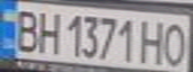1: (60, 10, 84, 57), (115, 15, 139, 62)
3: (78, 12, 100, 59)
7: (97, 14, 118, 61)
B: (9, 6, 42, 53)
H: (33, 7, 63, 55), (139, 17, 169, 65)
O: (160, 18, 193, 68)
